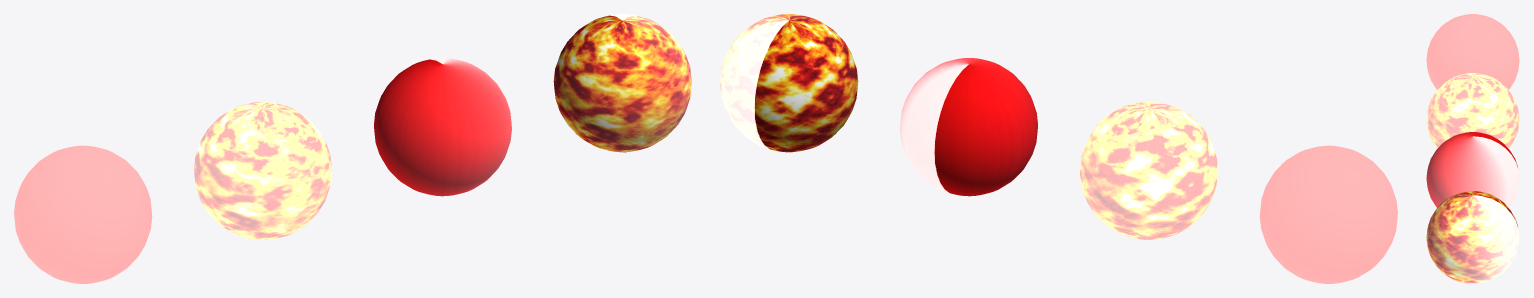
The model's file is Emission.gltf.
The picture shows the model from 3 angles, left to right: view 1: azimuth 30°, elevation 25°; view 2: azimuth 150°, elevation 25°; view 3: azimuth 270°, elevation 25°; orthographic projection. The views are drawn at different scales.
Visible parts, largest first — view 1: Sphere001, Sphere004, Sphere002, Sphere003; view 2: Sphere001, Sphere004, Sphere002, Sphere003; view 3: Sphere004, Sphere001, Sphere002, Sphere003.
Boxes of the visible parts, x1,y1,x2,y2 form: Sphere001: (14, 145, 152, 283); Sphere004: (553, 14, 691, 152); Sphere002: (194, 101, 331, 239); Sphere003: (374, 58, 511, 196); Sphere001: (1259, 145, 1397, 283); Sphere004: (720, 14, 858, 152); Sphere002: (1080, 101, 1217, 239); Sphere003: (900, 58, 1037, 196); Sphere004: (1426, 191, 1519, 283); Sphere001: (1426, 14, 1519, 89); Sphere002: (1426, 73, 1519, 148); Sphere003: (1426, 132, 1519, 207).
Size of the model in its own units: 11 by 2 by 2.
Materials: 4 (2 with a texture image).
